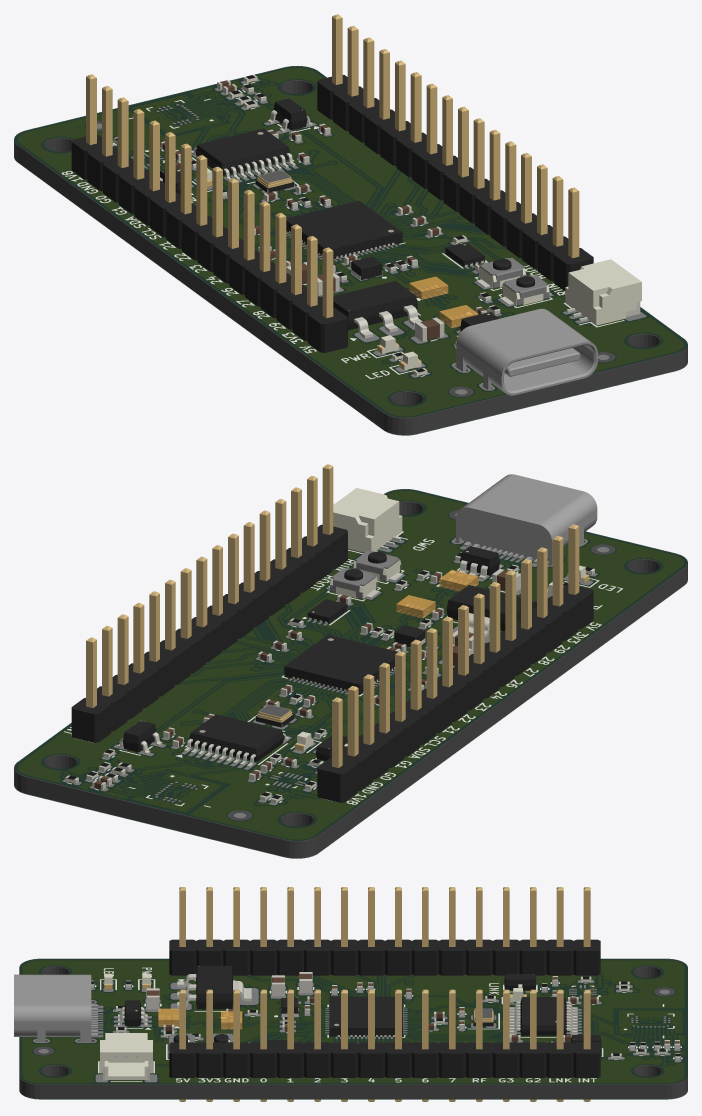
Rendered from board.glb.
3 renders of one model, top to bottom at view 1: azimuth 30°, elevation 25°; view 2: azimuth 150°, elevation 25°; view 3: azimuth 270°, elevation 25°, orthographic. The views are drawn at different scales.
Visible parts, largest first — view 1: PinHeader_1x16_P2.54mm_Vertical (×2), comms_soldermask (×2), comms_copper, comms_PCB, HRO_TYPE-C-31-M-12, QFN-56-1EP_7x7mm_P0.4mm_EP5.6x5.6mm, JST_SH_SM03B-SRSS-TB_1x03-1MP_P1.00mm_Horizontal, TSSOP-20_4.4x6.5mm_P0.65mm, comms_pad, SOT-223, comms_silkscreen, SW_SPST_B3U-1000P (×2) (+4 smaller); view 2: comms_soldermask (×2), PinHeader_1x16_P2.54mm_Vertical (×2), comms_copper, comms_PCB, HRO_TYPE-C-31-M-12, QFN-56-1EP_7x7mm_P0.4mm_EP5.6x5.6mm, comms_pad, JST_SH_SM03B-SRSS-TB_1x03-1MP_P1.00mm_Horizontal, TSSOP-20_4.4x6.5mm_P0.65mm, comms_silkscreen, SW_SPST_B3U-1000P (×2), SOT-223 (+6 smaller); view 3: PinHeader_1x16_P2.54mm_Vertical (×2), comms_soldermask (×2), comms_copper, comms_PCB, HRO_TYPE-C-31-M-12, comms_pad, JST_SH_SM03B-SRSS-TB_1x03-1MP_P1.00mm_Horizontal, QFN-56-1EP_7x7mm_P0.4mm_EP5.6x5.6mm, SOT-223, TSSOP-20_4.4x6.5mm_P0.65mm, comms_silkscreen, SOT-23-6 (+2 smaller).
Part boxes in pixels (x1=…): PinHeader_1x16_P2.54mm_Vertical (×2): x1=71, y1=14, x2=593, y2=352; comms_soldermask (×2): x1=14, y1=66, x2=687, y2=435; comms_copper: x1=18, y1=68, x2=683, y2=416; comms_PCB: x1=14, y1=67, x2=687, y2=434; HRO_TYPE-C-31-M-12: x1=456, y1=308, x2=597, y2=395; QFN-56-1EP_7x7mm_P0.4mm_EP5.6x5.6mm: x1=286, y1=200, x2=402, y2=259; JST_SH_SM03B-SRSS-TB_1x03-1MP_P1.00mm_Horizontal: x1=565, y1=259, x2=641, y2=325; TSSOP-20_4.4x6.5mm_P0.65mm: x1=191, y1=128, x2=295, y2=180; comms_pad: x1=97, y1=78, x2=646, y2=394; SOT-223: x1=333, y1=281, x2=422, y2=338; comms_silkscreen: x1=61, y1=82, x2=624, y2=379; SW_SPST_B3U-1000P (×2): x1=476, y1=258, x2=551, y2=305; comms_soldermask (×2): x1=14, y1=489, x2=687, y2=858; PinHeader_1x16_P2.54mm_Vertical (×2): x1=71, y1=464, x2=593, y2=802; comms_copper: x1=18, y1=491, x2=683, y2=839; comms_PCB: x1=14, y1=490, x2=687, y2=858; HRO_TYPE-C-31-M-12: x1=456, y1=474, x2=597, y2=565; QFN-56-1EP_7x7mm_P0.4mm_EP5.6x5.6mm: x1=284, y1=634, x2=397, y2=694; comms_pad: x1=62, y1=513, x2=609, y2=818; JST_SH_SM03B-SRSS-TB_1x03-1MP_P1.00mm_Horizontal: x1=333, y1=488, x2=402, y2=552; TSSOP-20_4.4x6.5mm_P0.65mm: x1=184, y1=714, x2=289, y2=767; comms_silkscreen: x1=64, y1=531, x2=622, y2=807; SW_SPST_B3U-1000P (×2): x1=328, y1=551, x2=403, y2=598; SOT-223: x1=446, y1=585, x2=536, y2=636; PinHeader_1x16_P2.54mm_Vertical (×2): x1=169, y1=887, x2=600, y2=1101; comms_soldermask (×2): x1=19, y1=958, x2=687, y2=1099; comms_copper: x1=23, y1=961, x2=683, y2=1082; comms_PCB: x1=19, y1=959, x2=687, y2=1098; HRO_TYPE-C-31-M-12: x1=14, y1=974, x2=97, y2=1042; comms_pad: x1=33, y1=980, x2=681, y2=1082; JST_SH_SM03B-SRSS-TB_1x03-1MP_P1.00mm_Horizontal: x1=100, y1=1033, x2=152, y2=1080; QFN-56-1EP_7x7mm_P0.4mm_EP5.6x5.6mm: x1=329, y1=996, x2=403, y2=1036; SOT-223: x1=177, y1=965, x2=251, y2=1009; TSSOP-20_4.4x6.5mm_P0.65mm: x1=509, y1=997, x2=577, y2=1035; comms_silkscreen: x1=94, y1=967, x2=682, y2=1082; SOT-23-6: x1=118, y1=1000, x2=147, y2=1026.
Bounding box in the file's own units: 0.028 × 0.0122 × 0.0635.
